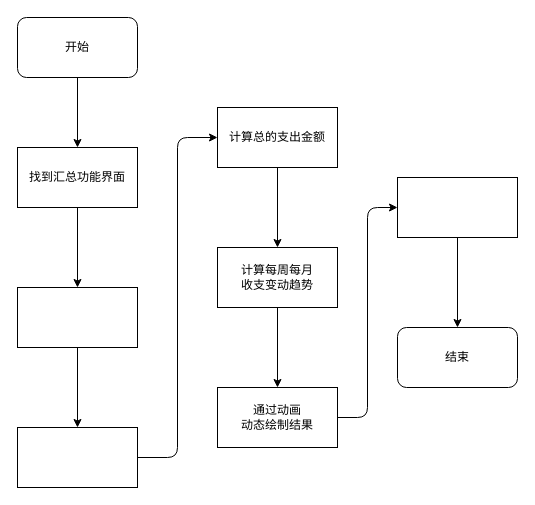
The diagram is 535 pixels wide and 505 high, and some of its shapes have lost their labels. Each missing label, with the centre of its shape:
从本地数据库中 读取数据: the point at 77,317
用图表展示最终数据: the point at 457,207
计算总的收入金额: the point at 77,457
